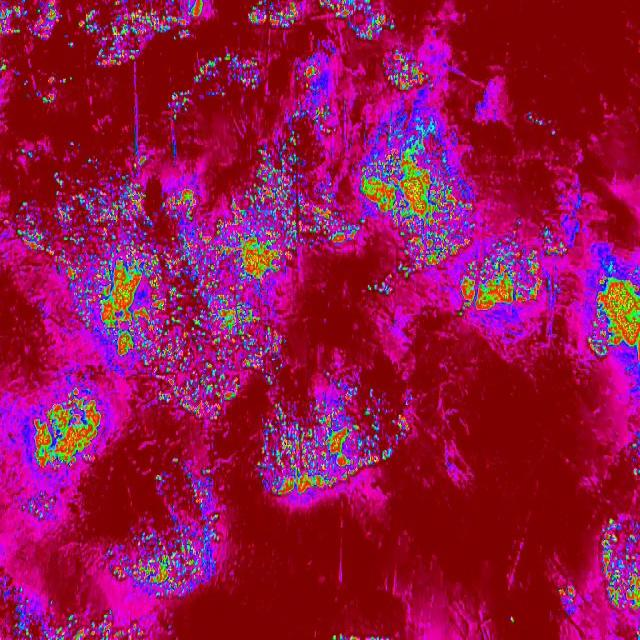fire: (62, 134, 298, 417), (257, 383, 407, 513), (361, 104, 480, 267), (0, 0, 211, 61), (125, 476, 228, 599), (29, 390, 112, 472), (456, 246, 552, 316), (585, 259, 640, 365), (594, 512, 640, 614), (300, 183, 358, 246), (378, 49, 439, 93)
